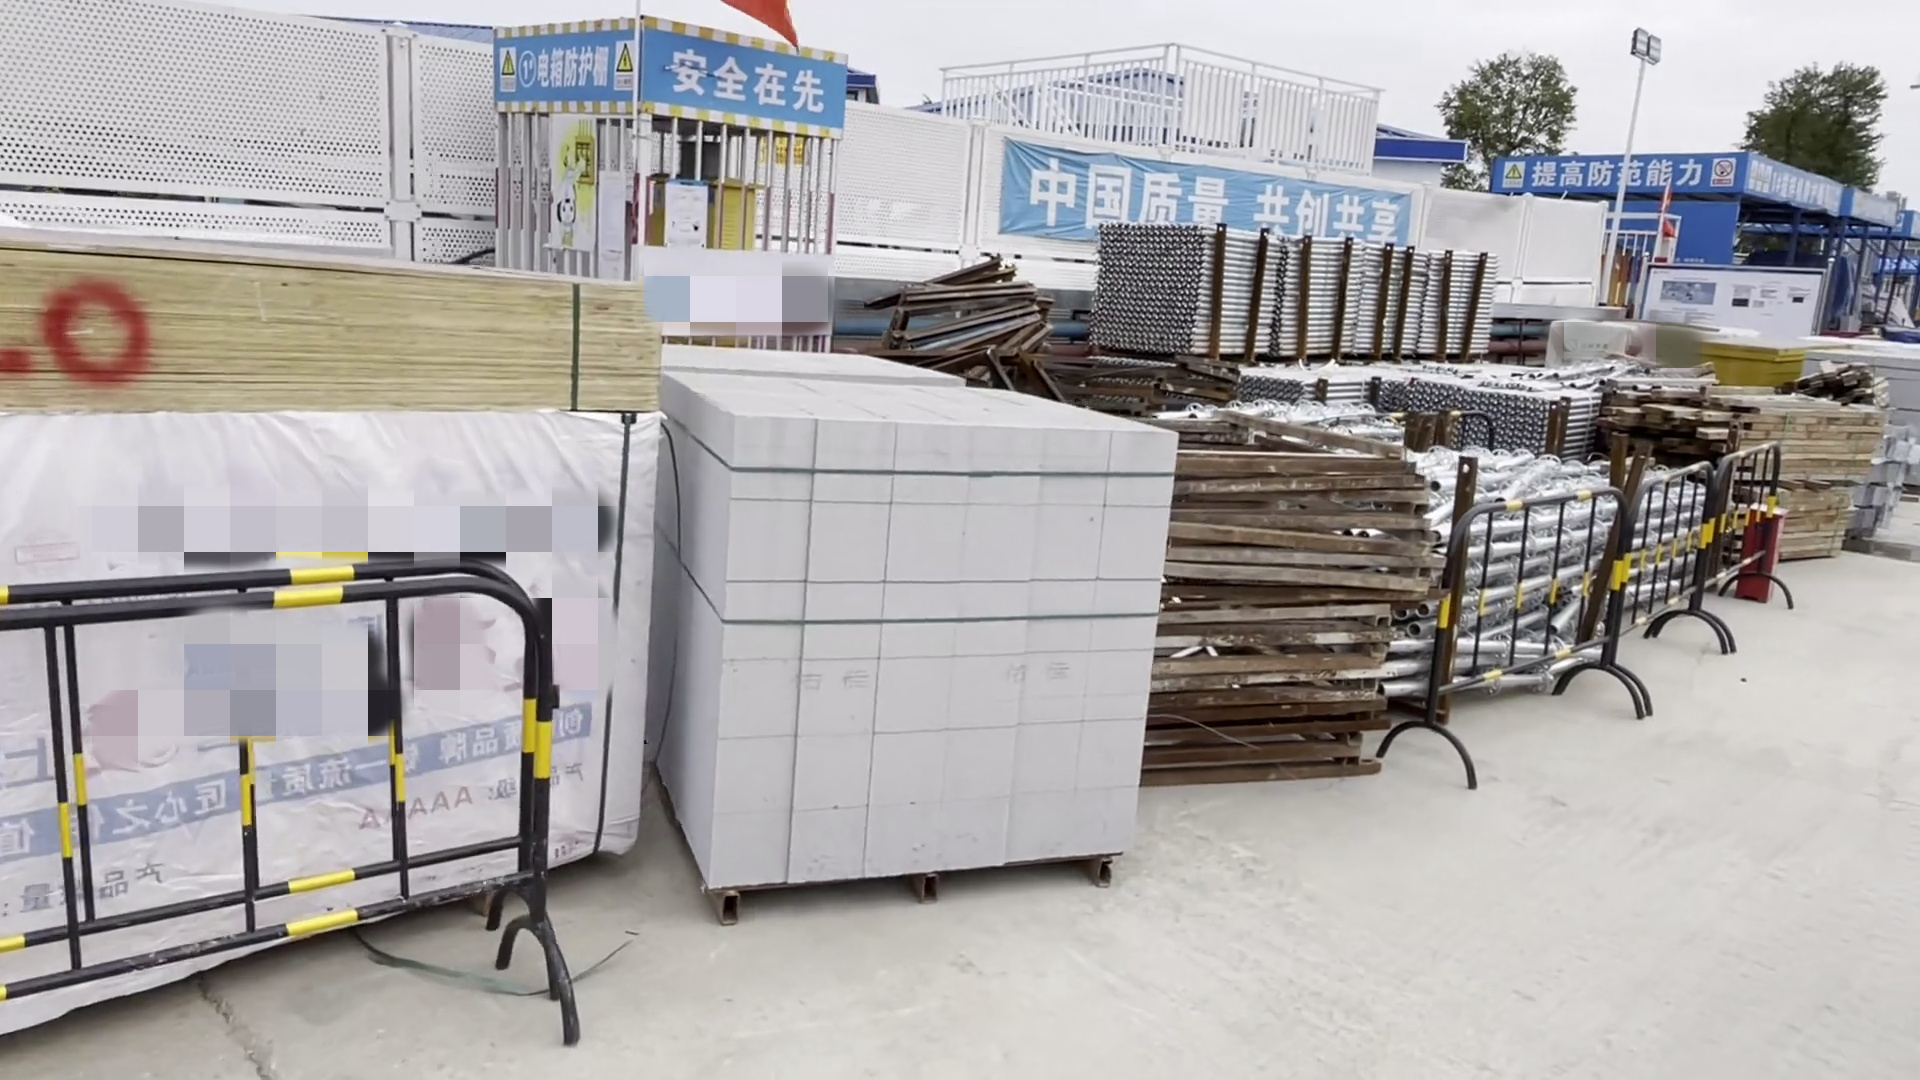brick: (655, 351, 1178, 927)
scaffold: (1098, 222, 1497, 371)
slogan: (988, 142, 1428, 266), (484, 20, 843, 152), (1476, 149, 1841, 216)
wood: (1738, 404, 1869, 566)
